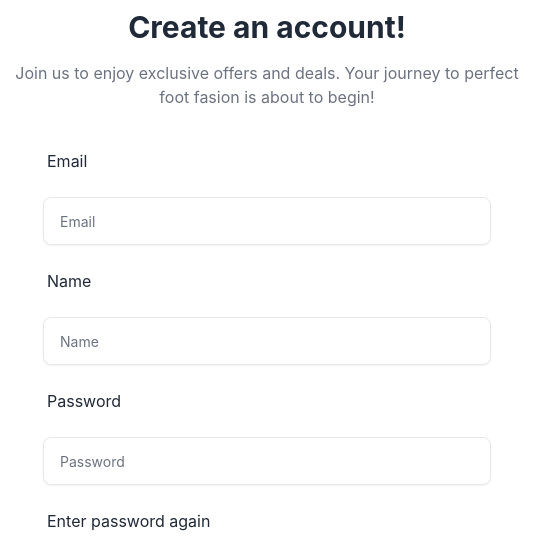
Test case: Signup › name field should show error message if › clicked and empty
The image size is (536, 552).
Click the field labelled "Name". click: click(267, 341)
box: [43,317,491,365]
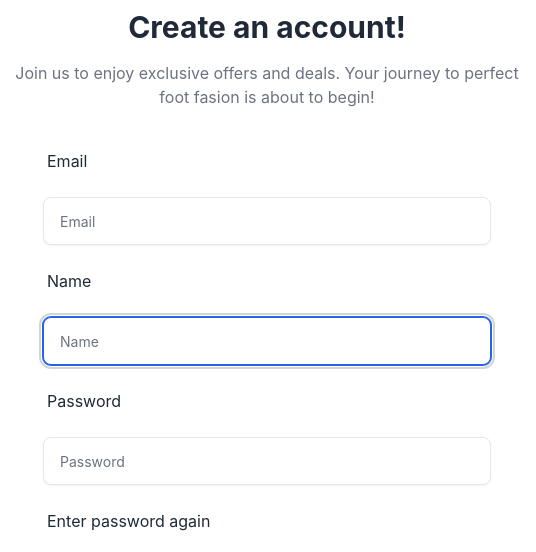
Click the field labelled "Email". click: click(267, 221)
box: [43,197,491,245]
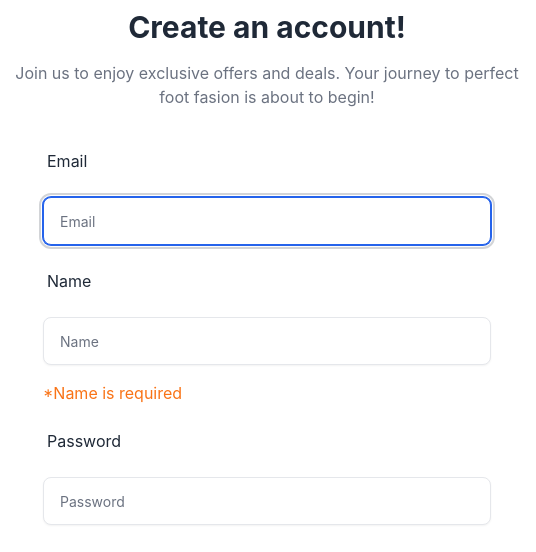
Expected: the text "*Name is required" is shown, [43,383,182,403]
